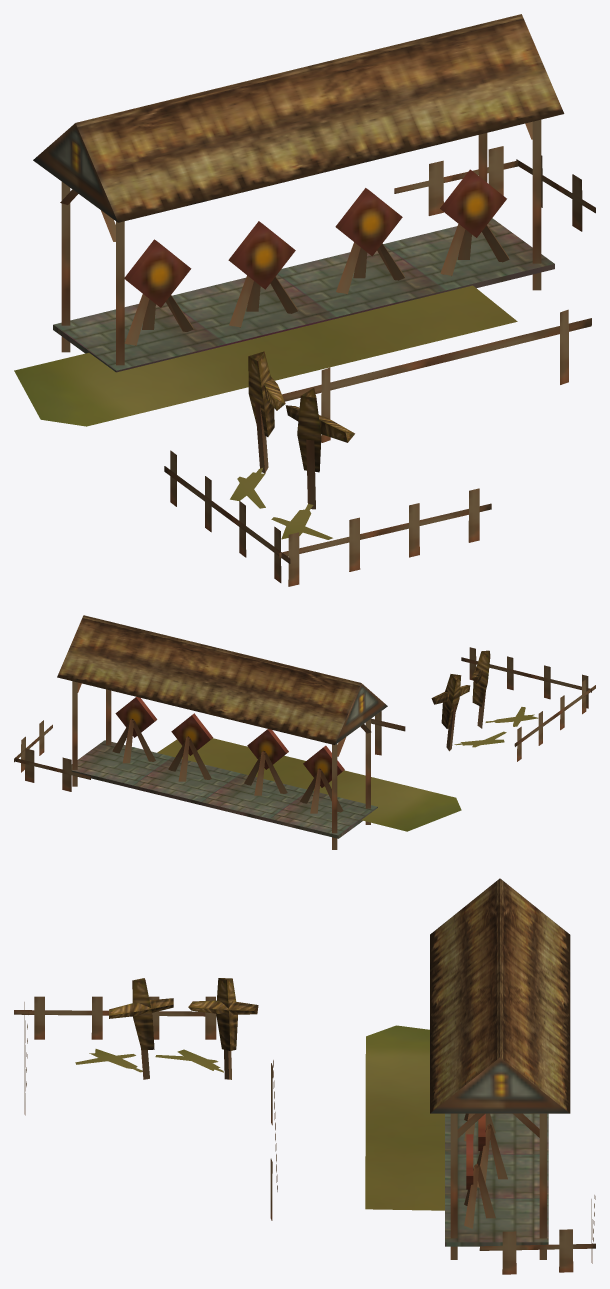
File: TrainingGround_Level01.FBX
The picture shows the model from 3 angles, top to bottom: view 1: azimuth 30°, elevation 25°; view 2: azimuth 150°, elevation 25°; view 3: azimuth 270°, elevation 25°; orthographic projection. The views are drawn at different scales.
Visible parts, largest first — view 1: TrainingGround_Level01; view 2: TrainingGround_Level01; view 3: TrainingGround_Level01.
Boxes of the visible parts, x1,y1,x2,y2 form: TrainingGround_Level01: (14, 14, 595, 586); TrainingGround_Level01: (14, 615, 595, 849); TrainingGround_Level01: (14, 878, 595, 1274).
Size of the model in its own units: 770 by 305 by 778.
